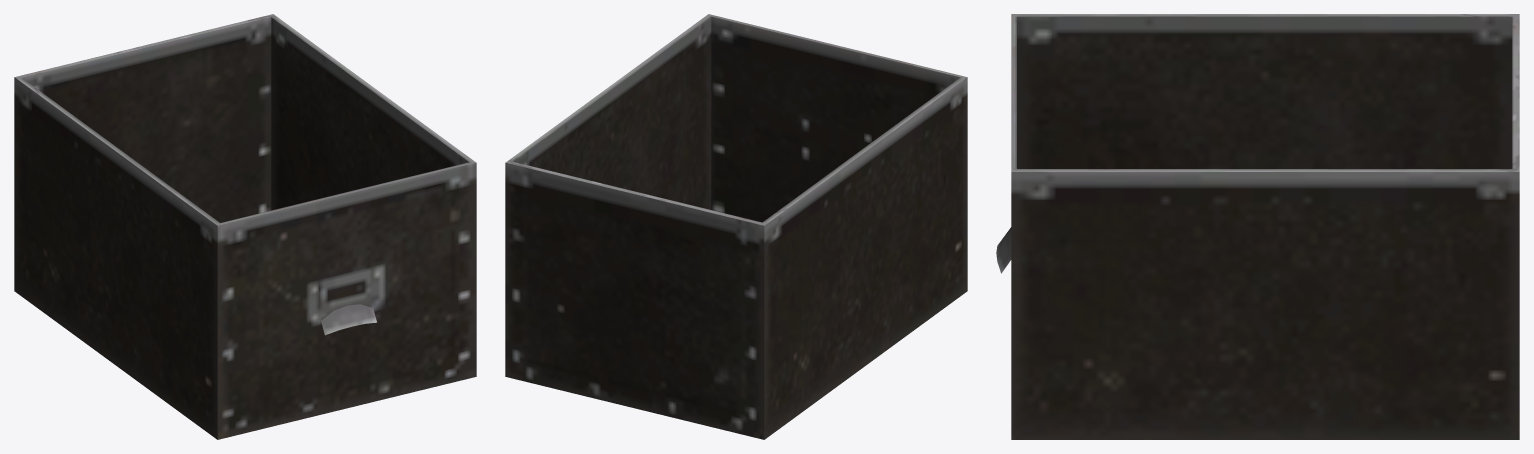
Rendered from 022_cardboard01a.fbx.
3 views of the same model, side by side, from view 1: azimuth 30°, elevation 25°; view 2: azimuth 150°, elevation 25°; view 3: azimuth 270°, elevation 25° (orthographic). The views are drawn at different scales.
Parts seen in each view (by area): view 1: LOD_1_Group_0_Sub_1__sm36_022_Cardboard01A_B_Mat; view 2: LOD_1_Group_0_Sub_1__sm36_022_Cardboard01A_B_Mat; view 3: LOD_1_Group_0_Sub_1__sm36_022_Cardboard01A_B_Mat.
Part boxes in pixels (x1,y1,x2,y2): LOD_1_Group_0_Sub_1__sm36_022_Cardboard01A_B_Mat: (14,14,476,439); LOD_1_Group_0_Sub_1__sm36_022_Cardboard01A_B_Mat: (505,14,967,439); LOD_1_Group_0_Sub_1__sm36_022_Cardboard01A_B_Mat: (996,14,1519,439).
Bounding box in the file's own units: 0.2879 × 0.2276 × 0.4029.
